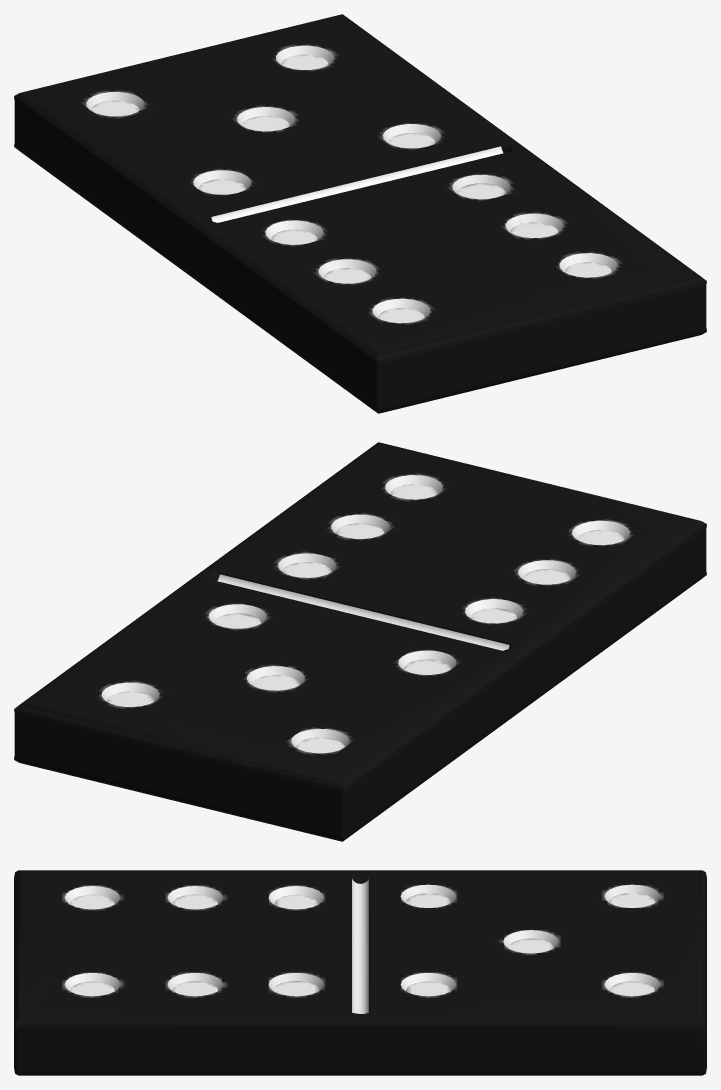
The model's file is Eraser.fbx.
The picture shows the model from 3 angles, top to bottom: view 1: azimuth 30°, elevation 25°; view 2: azimuth 150°, elevation 25°; view 3: azimuth 270°, elevation 25°; orthographic projection. The views are drawn at different scales.
Visible parts, largest first — view 1: defaultMaterial.003; view 2: defaultMaterial.003; view 3: defaultMaterial.003.
Boxes of the visible parts, x1,y1,x2,y2 form: defaultMaterial.003: (14, 14, 706, 413); defaultMaterial.003: (14, 442, 706, 841); defaultMaterial.003: (14, 870, 706, 1075).
Size of the model in its own units: 25.52 by 4.47 by 48.47.
1 material, 1 textured.
